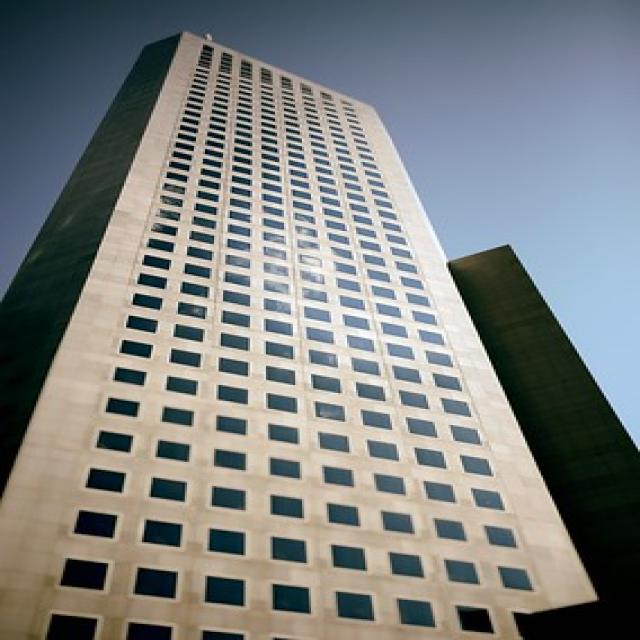Normal_building: (0, 23, 602, 639)
